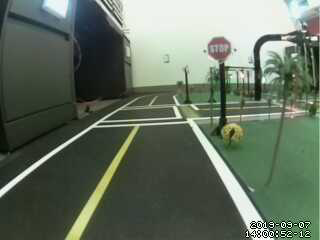Stop_Sign: (203, 32, 236, 65)
